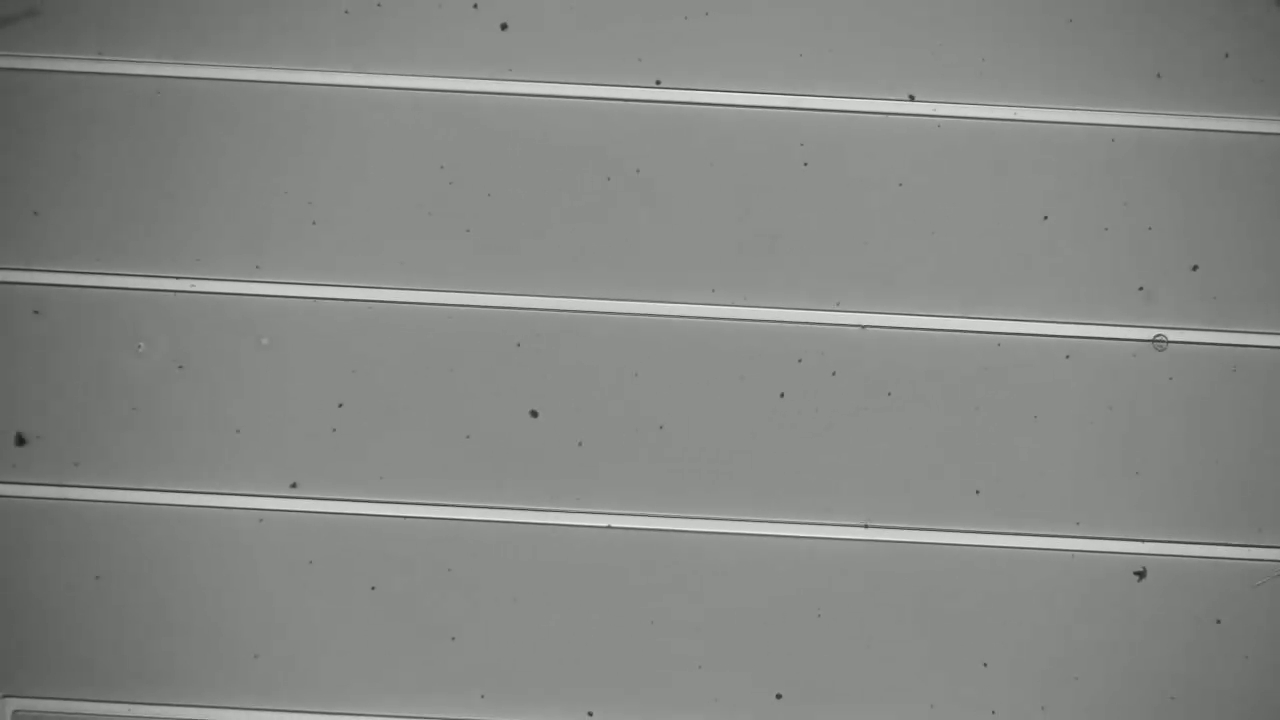stains_enbedded: (1147, 317, 1176, 358)
